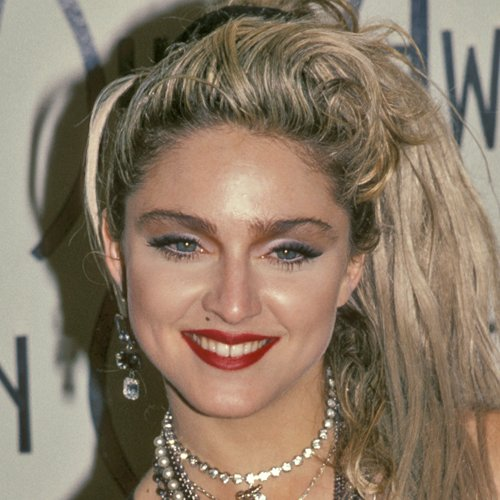mole: (202, 313, 217, 326)
